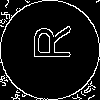R: (25, 25, 70, 61)
